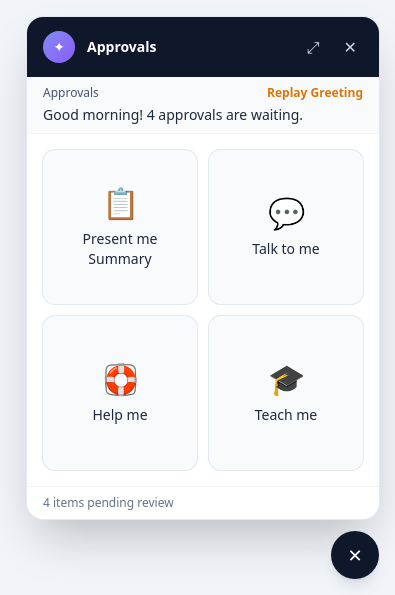
Test: ApprovalsAssistant chat panel › shows an error with retry, then a fallback notice when the AI is unavailable
Expected: the text "Good morning! 4 approvals are waiting." is shown, [43,105,303,124]
Click the button "💬 Talk to me" at (286, 227), box [209,150,363,304]
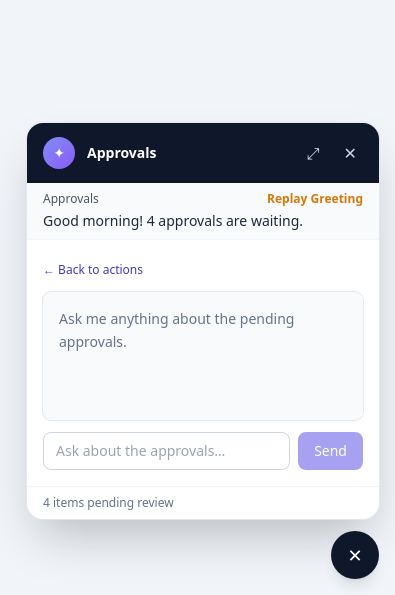
Type "Any news?" into the field named "Message" at (167, 451), box [43,432,290,470]
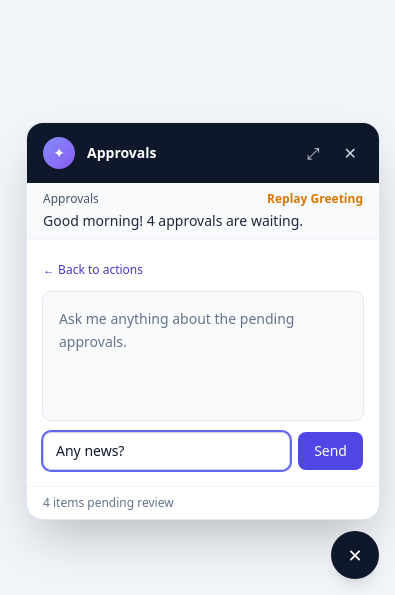
Click the button "Send" at (331, 451), box [298,432,363,470]
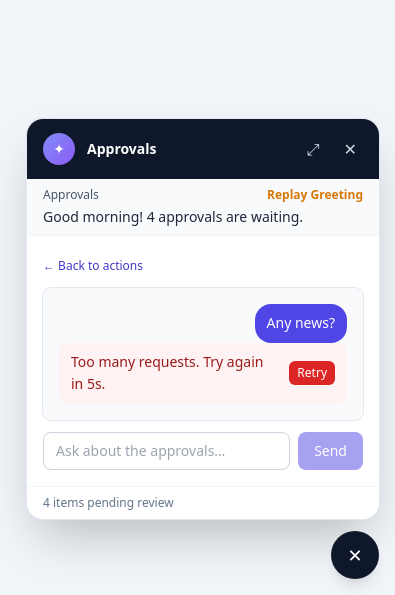
Expected: the message shows "Too many requests. Try again in 5s.", [71,352,263,393]
Expected: the text "Any news?" is shown, [255,304,347,343]
Click the button "Retry" at (312, 373), box [289,361,335,385]
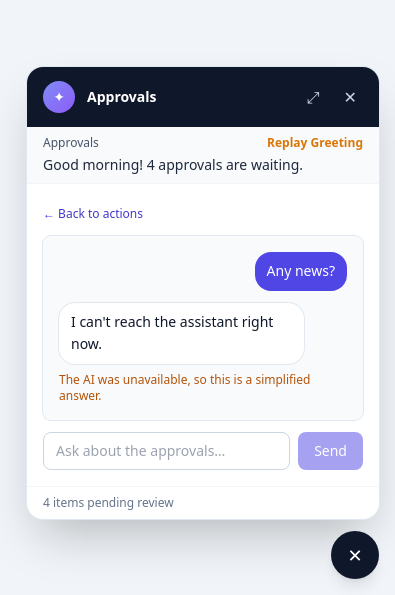
Expected: the text "I can't reach the assistant right now." is shown, [59,302,304,364]
Expected: the text "The AI was unavailable, so this is a simplified answer." is shown, [59,372,347,404]
Expected: the message "Too many requests. Try again in 5s. Retry" is gone
